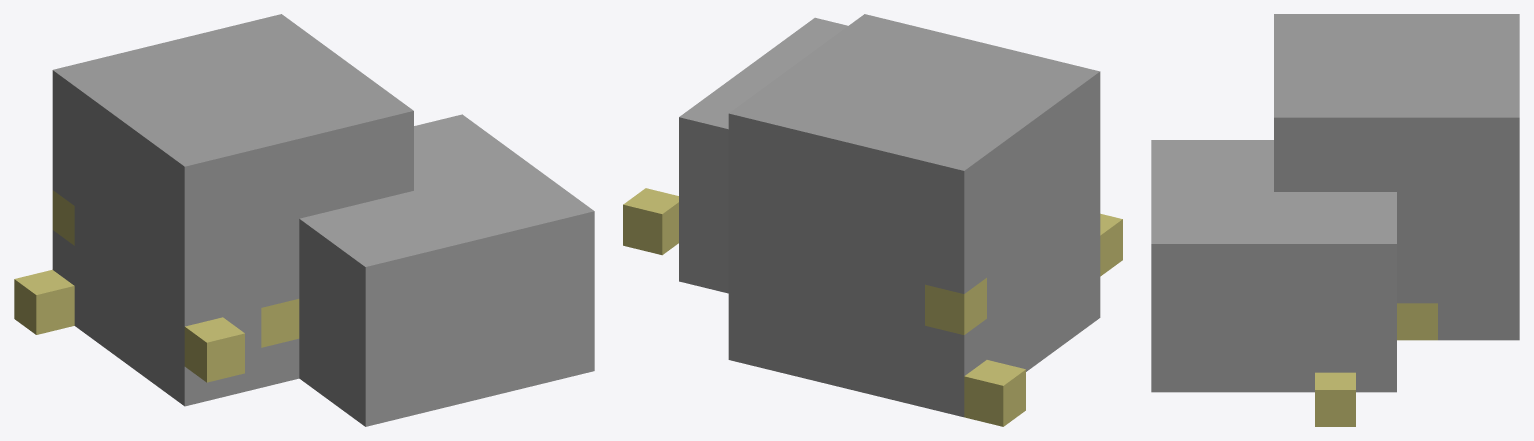
File: azufre_01.glb
The picture shows the model from 3 angles, left to right: view 1: azimuth 30°, elevation 25°; view 2: azimuth 150°, elevation 25°; view 3: azimuth 270°, elevation 25°; orthographic projection. The views are drawn at different scales.
Parts seen in each view (by area): view 1: azufre_01; view 2: azufre_01; view 3: azufre_01.
Boxes of the visible parts, bbox=[...] form: azufre_01: bbox=[14, 14, 594, 426]; azufre_01: bbox=[623, 14, 1122, 426]; azufre_01: bbox=[1151, 14, 1519, 426].
Size of the model in its own units: 1.2 by 0.6 by 0.9.
